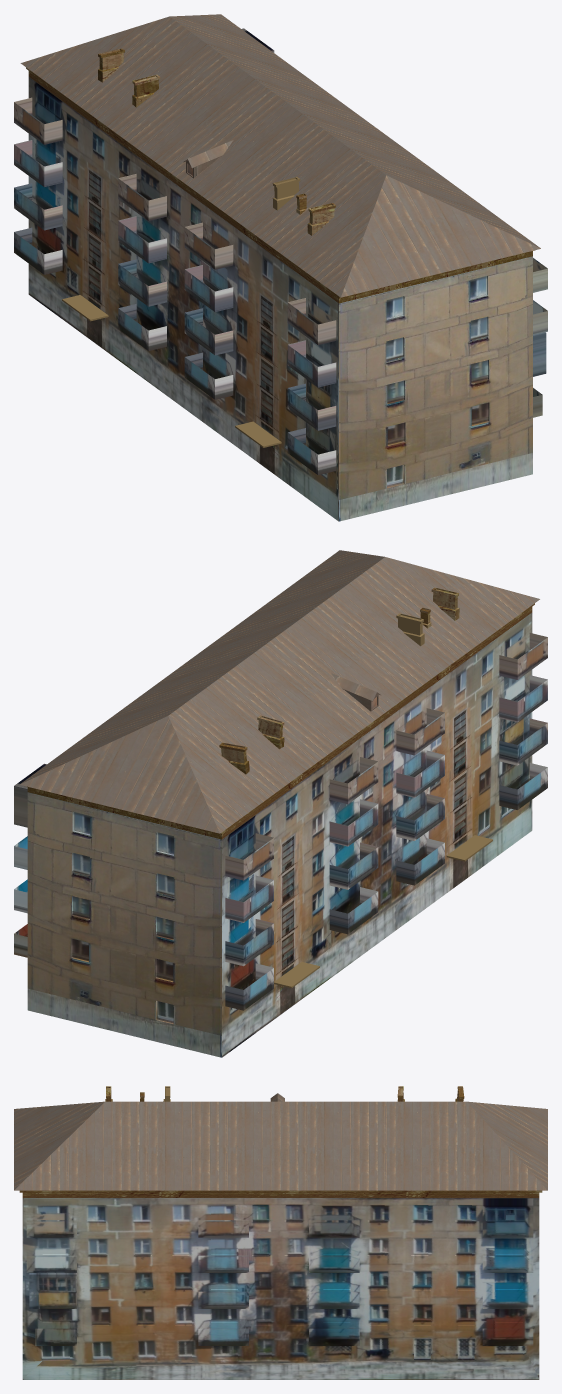
File: khrush5.gltf
3 renders of one model, top to bottom at view 1: azimuth 30°, elevation 25°; view 2: azimuth 150°, elevation 25°; view 3: azimuth 270°, elevation 25°, orthographic. The views are drawn at different scales.
Visible parts, largest first — view 1: Body; view 2: Body; view 3: Body.
Boxes of the visible parts, <box> form: Body: <box>14,14,547,521</box>; Body: <box>14,550,547,1057</box>; Body: <box>14,1086,547,1379</box>.
Bounding box in the file's own units: 5.5 × 6.55 × 13.28.
5 materials, 5 textured.
